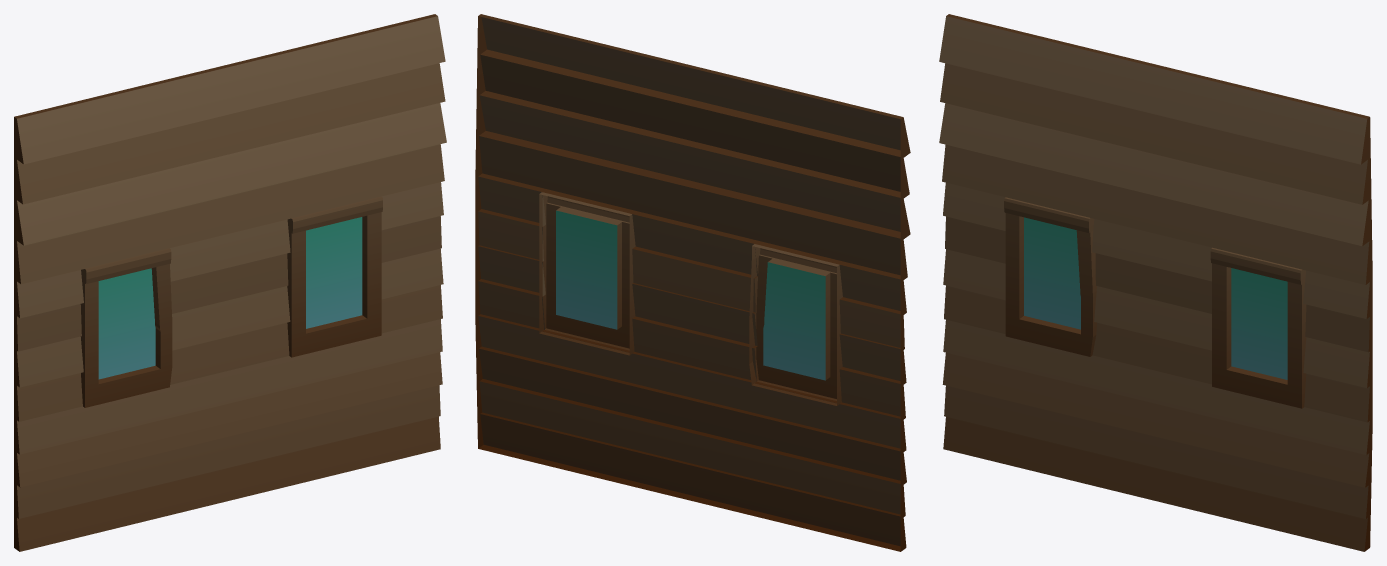
The model's file is Wall_02.fbx.
3 views of the same model, side by side, from view 1: azimuth 30°, elevation 25°; view 2: azimuth 150°, elevation 25°; view 3: azimuth 330°, elevation 25° (orthographic).
Parts seen in each view (by area): view 1: Plane.061; view 2: Plane.061; view 3: Plane.061.
Part boxes in pixels (left/top/right/bottom): Plane.061: left=14, top=14, right=446, bottom=551; Plane.061: left=475, top=14, right=910, bottom=551; Plane.061: left=939, top=14, right=1372, bottom=551.
Size of the model in its own units: 322 by 313 by 12.88.
